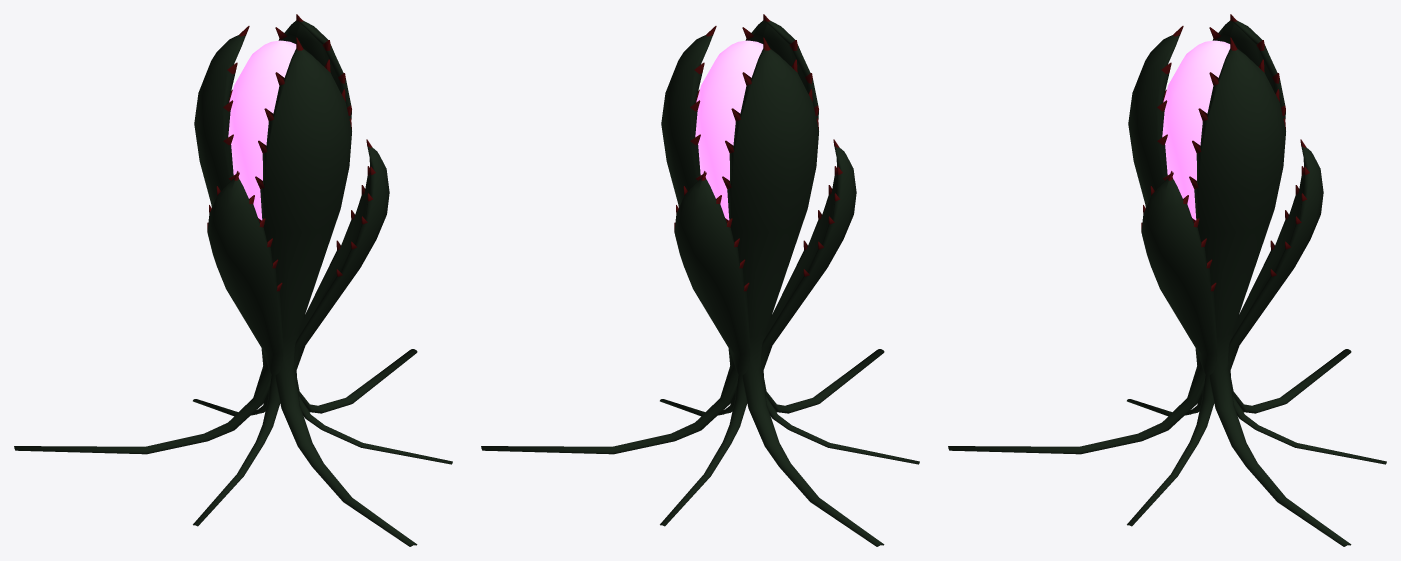
File: Plant_04_closed_LP.FBX
3 views of the same model, side by side, from view 1: azimuth 30°, elevation 25°; view 2: azimuth 150°, elevation 25°; view 3: azimuth 270°, elevation 25° (orthographic).
Parts seen in each view (by area): view 1: Plant_04_closed_LP; view 2: Plant_04_closed_LP; view 3: Plant_04_closed_LP.
Part boxes in pixels (x1,y1,x2,y2): Plant_04_closed_LP: (14, 14, 452, 546); Plant_04_closed_LP: (481, 14, 919, 546); Plant_04_closed_LP: (948, 14, 1386, 546).
Bounding box in the file's own units: 343 × 324 × 356.
